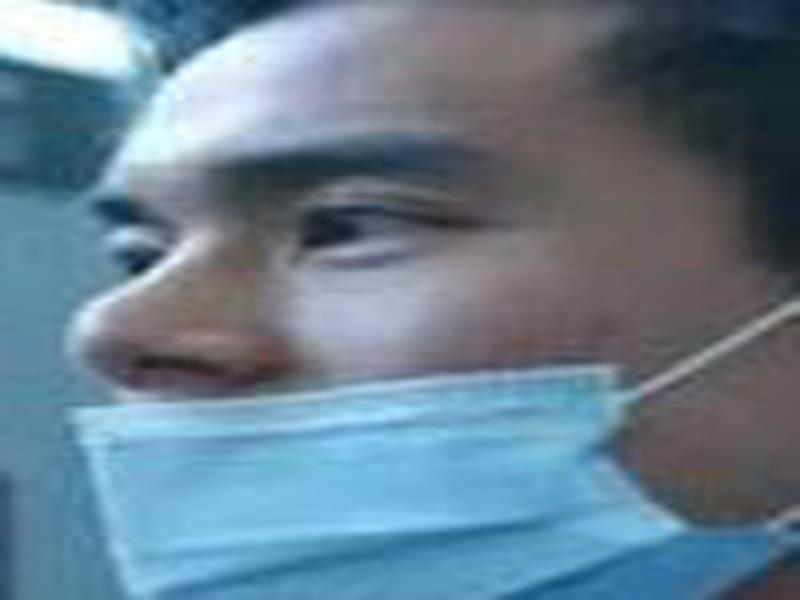with_mask: (53, 1, 800, 600)
